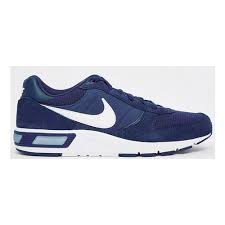nike: (42, 99, 118, 131)
